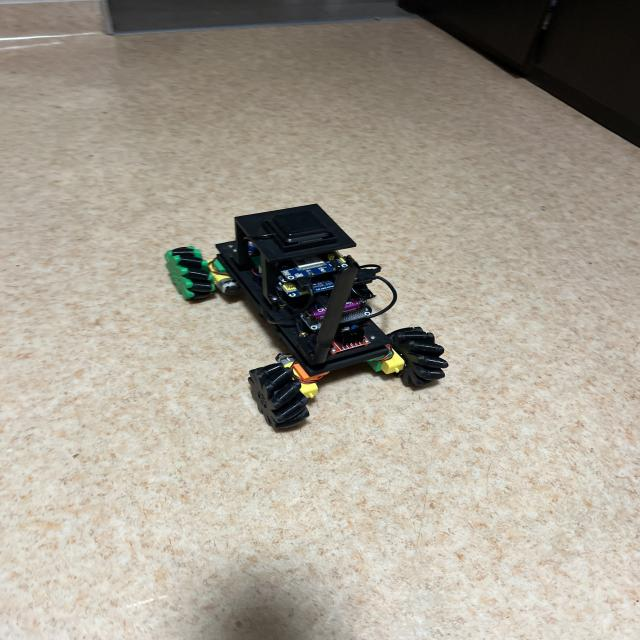robot: (164, 204, 448, 430)
